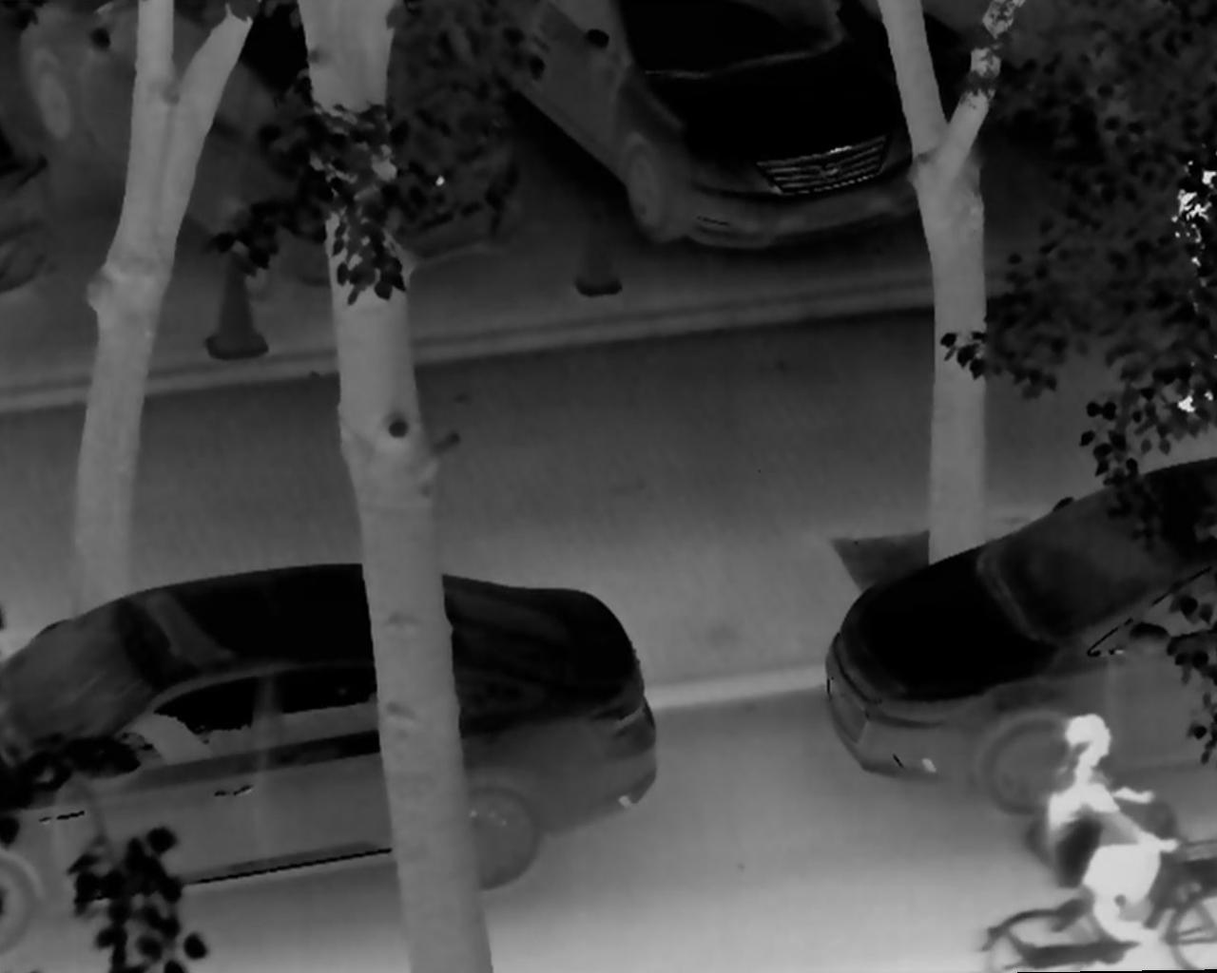person: (1032, 696, 1175, 948), (1147, 132, 1217, 425)
